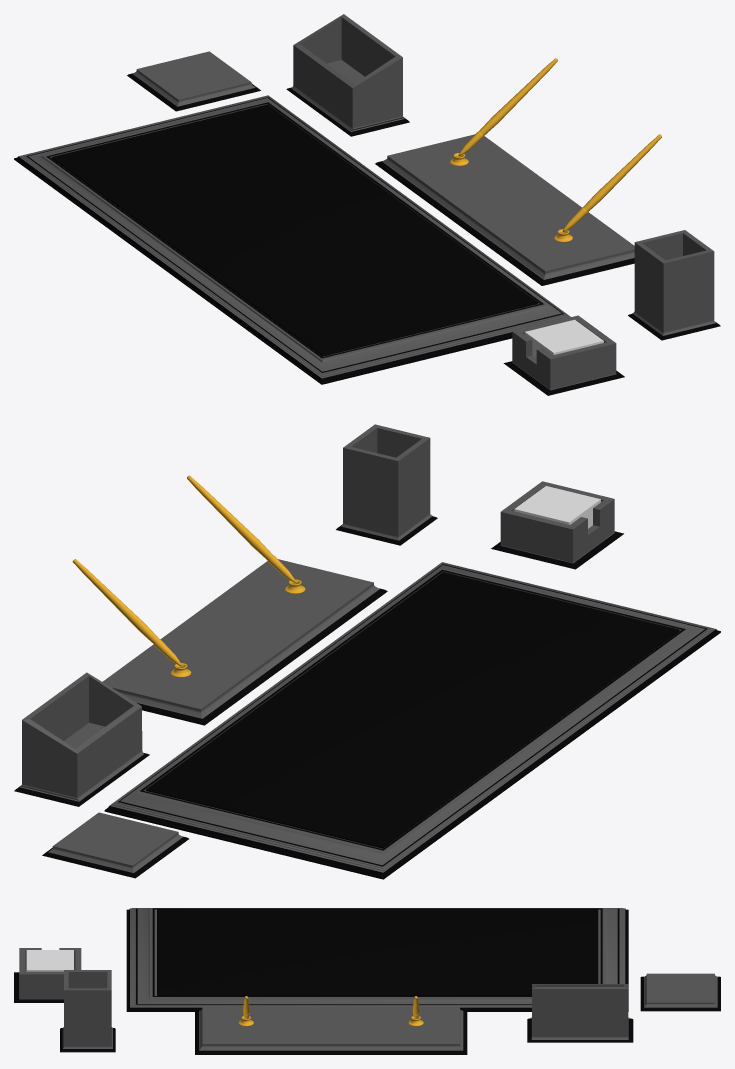
File: sumen.fbx
3 renders of one model, top to bottom at view 1: azimuth 30°, elevation 25°; view 2: azimuth 150°, elevation 25°; view 3: azimuth 270°, elevation 25°, orthographic. The views are drawn at different scales.
Visible parts, largest first — view 1: Plane.004, Plane.001, Plane.003, Plane.002, Plane.005, Plane; view 2: Plane.004, Plane.001, Plane.003, Plane.002, Plane.005, Plane; view 3: Plane.004, Plane.001, Plane.003, Plane.002, Plane, Plane.005.
Boxes of the visible parts, x1,y1,x2,y2 form: Plane.004: (14, 95, 570, 384); Plane.001: (375, 58, 661, 285); Plane.003: (286, 14, 409, 136); Plane.002: (628, 230, 720, 340); Plane.005: (503, 315, 624, 395); Plane: (127, 51, 260, 111); Plane.004: (104, 562, 720, 879); Plane.001: (72, 475, 387, 725); Plane.003: (14, 672, 149, 806); Plane.002: (336, 424, 437, 545); Plane.005: (491, 481, 623, 569); Plane: (42, 812, 188, 878); Plane.004: (126, 908, 628, 1011); Plane.001: (195, 996, 467, 1054); Plane.003: (527, 984, 633, 1042); Plane.002: (60, 970, 115, 1052); Plane: (640, 973, 720, 1011); Plane.005: (14, 948, 81, 1002).
Bounding box in the file's own units: 1525 × 840 × 187.
